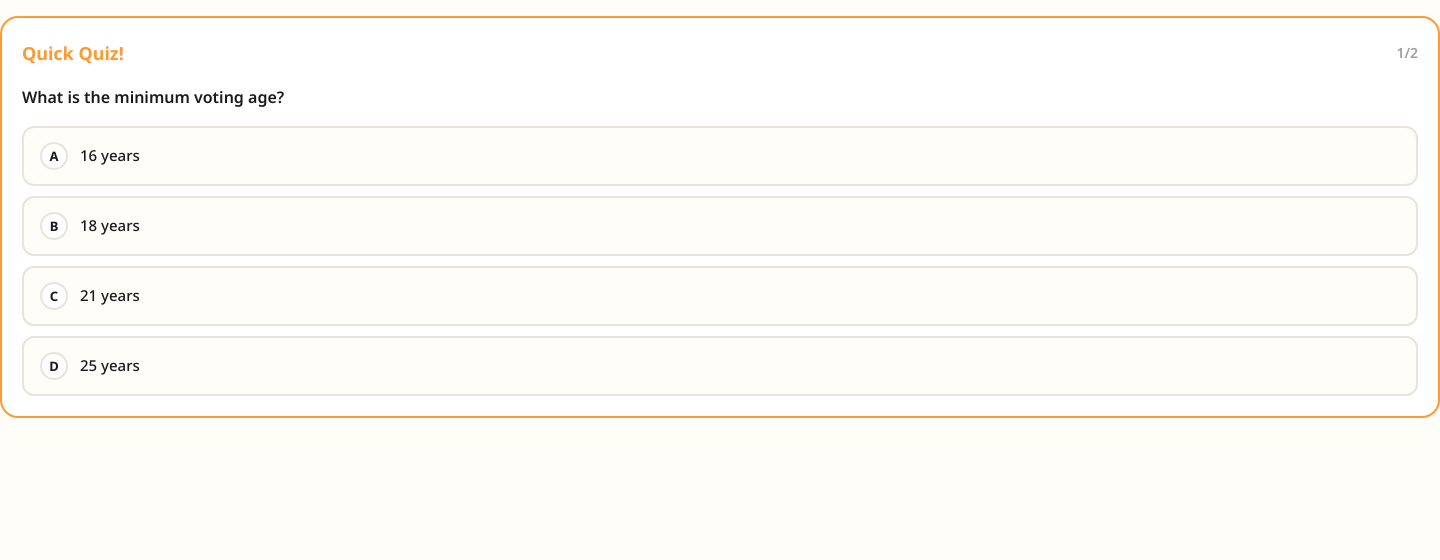
Test: QuizCard › shows correct feedback on right answer
The width and height of the screenshot is (1440, 560).
Click the button "B 18 years". click: (110, 225)
box: [22,196,1418,256]
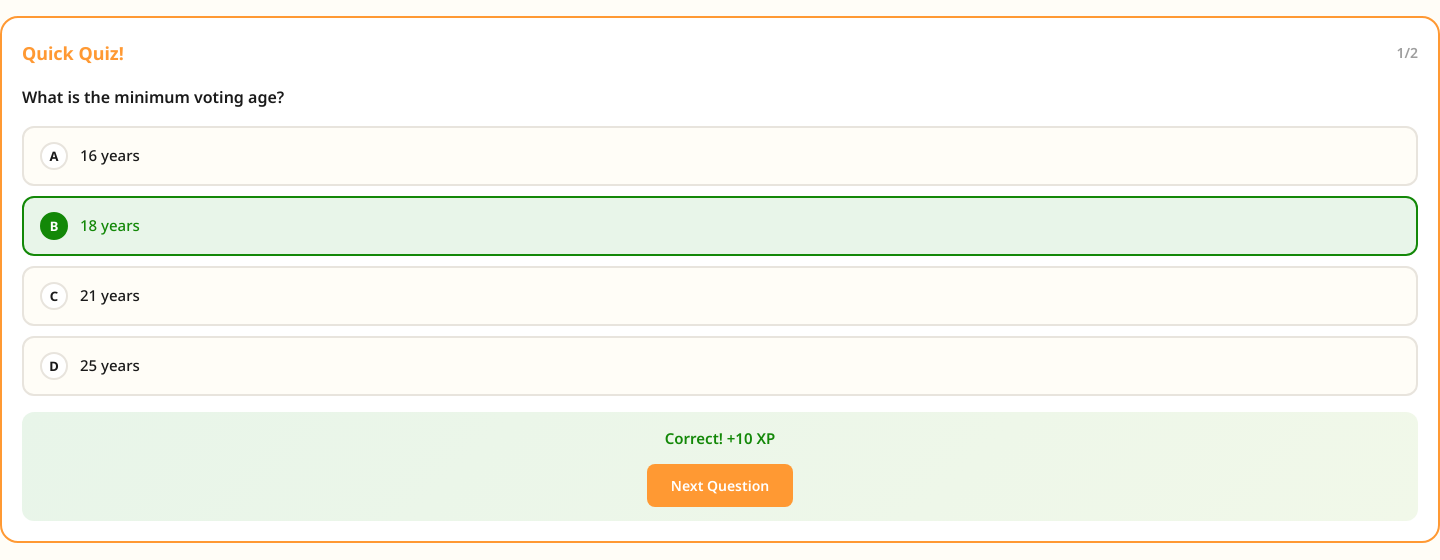
Check: the text "Correct! +10 XP" is shown, box [665,428,775,448]
